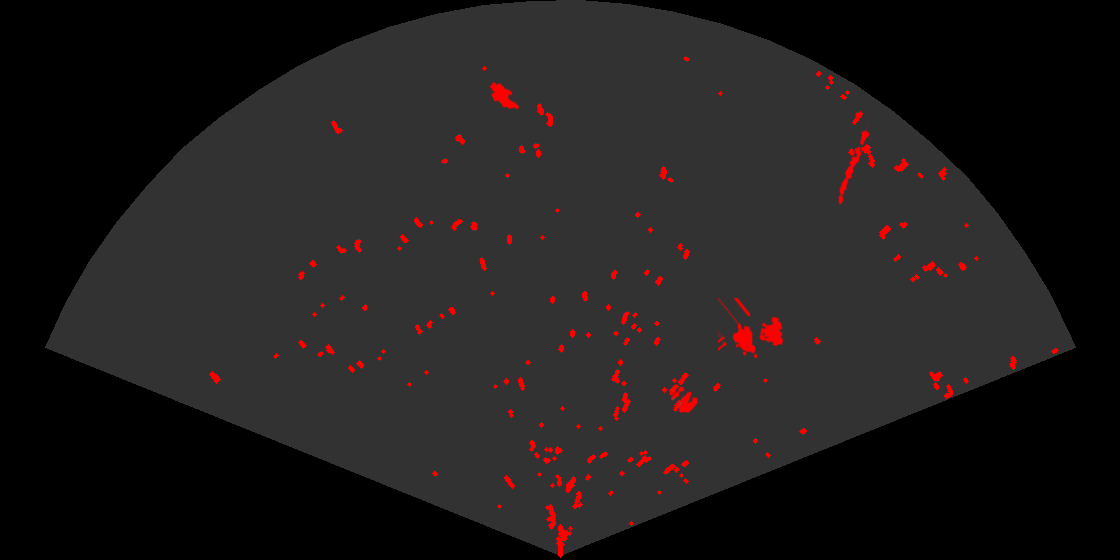AUV: (488, 81, 521, 111)
ball: (669, 385, 699, 415)
cage: (718, 298, 785, 360)
chain: (837, 123, 872, 206)
